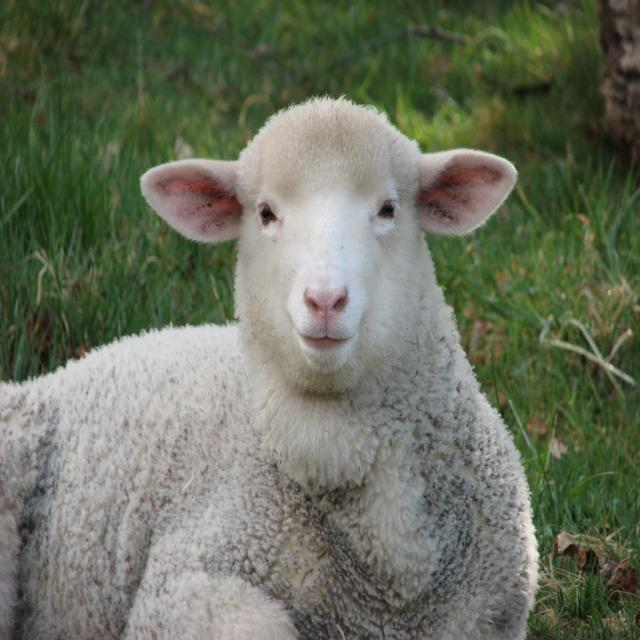Sheep: (1, 90, 539, 640)
